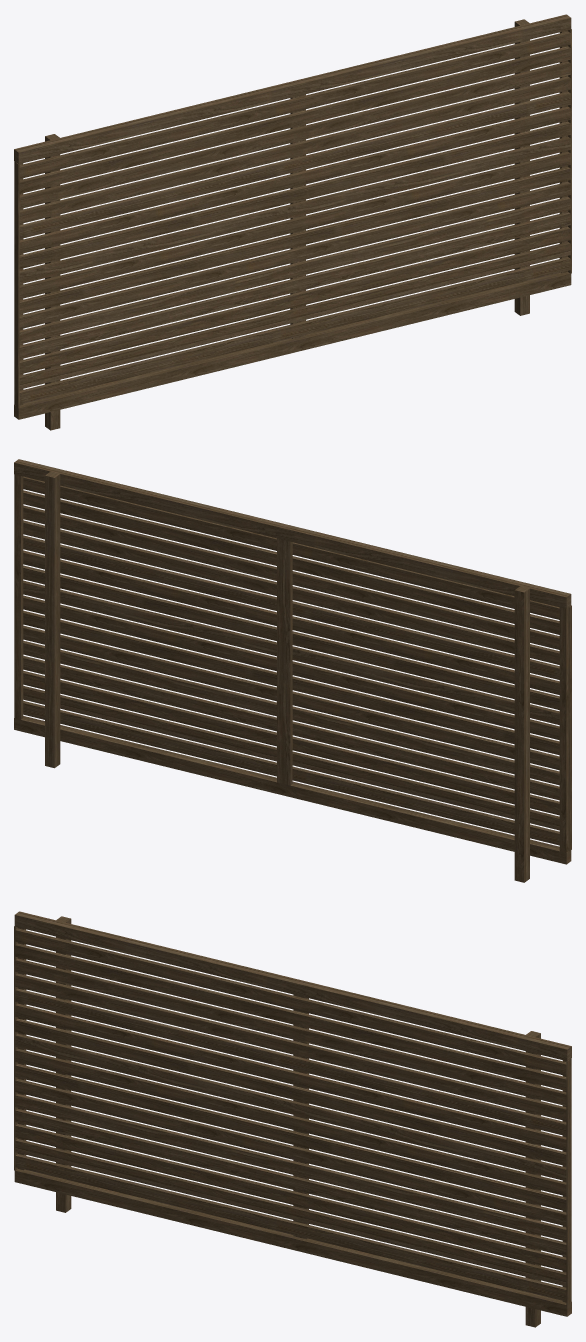
Rendered from dsf_yoko40_h1000_brownebony.fbx.
3 views of the same model, one above another, from view 1: azimuth 30°, elevation 25°; view 2: azimuth 150°, elevation 25°; view 3: azimuth 330°, elevation 25° (orthographic).
Parts seen in each view (by area): view 1: dsf_yoko40_h1000_brownebony; view 2: dsf_yoko40_h1000_brownebony; view 3: dsf_yoko40_h1000_brownebony.
Part boxes in pixels (left/top/right/bottom): dsf_yoko40_h1000_brownebony: left=14, top=14, right=571, bottom=430; dsf_yoko40_h1000_brownebony: left=14, top=459, right=571, bottom=882; dsf_yoko40_h1000_brownebony: left=14, top=911, right=571, bottom=1327.
Bounding box in the file's own units: 200 × 100 × 6.55.
1 material, 1 textured.
